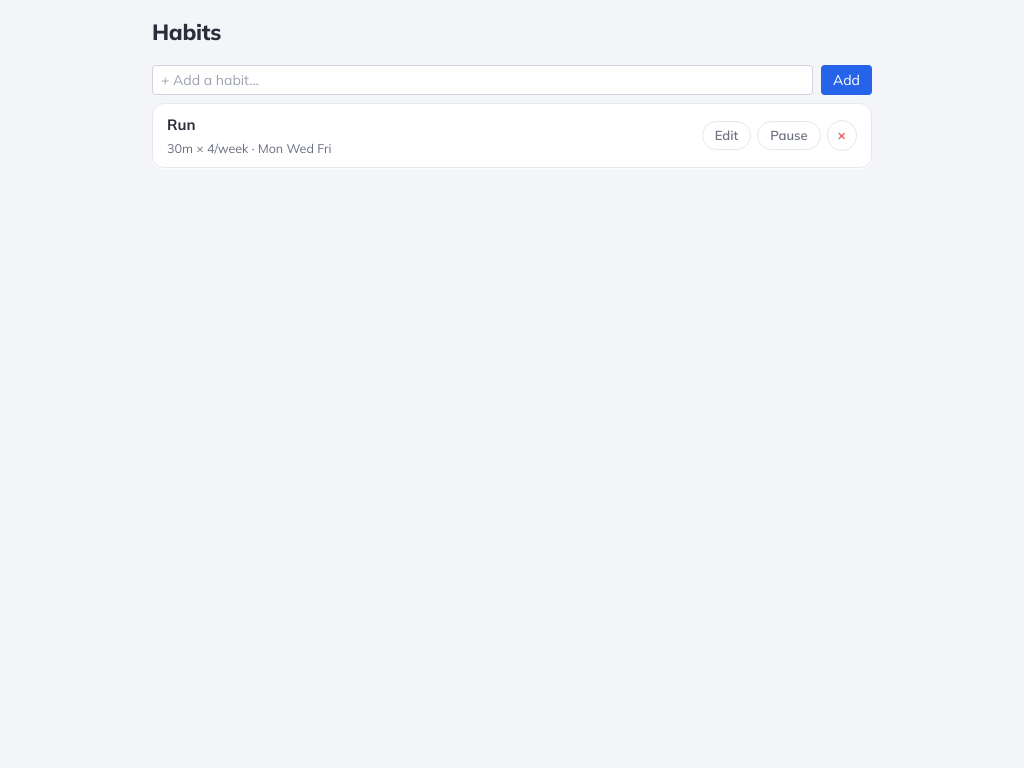
Test: Habits page compact layout › opens the habit drawer as a full-screen sheet
Check: the text "Run" is shown, box [167, 114, 196, 136]
Click the button "Edit" at (726, 136), box [702, 121, 751, 150]
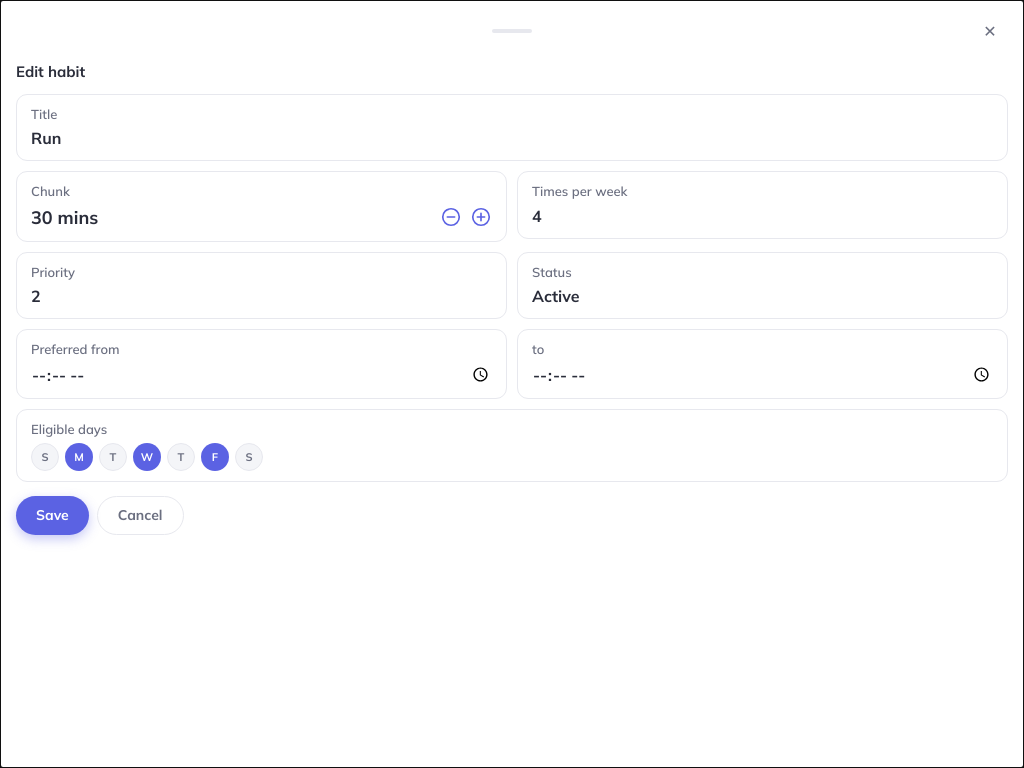
Check: the element with test id "habit-drawer" is shown
